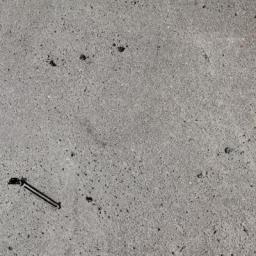FOD: (8, 173, 65, 212)
